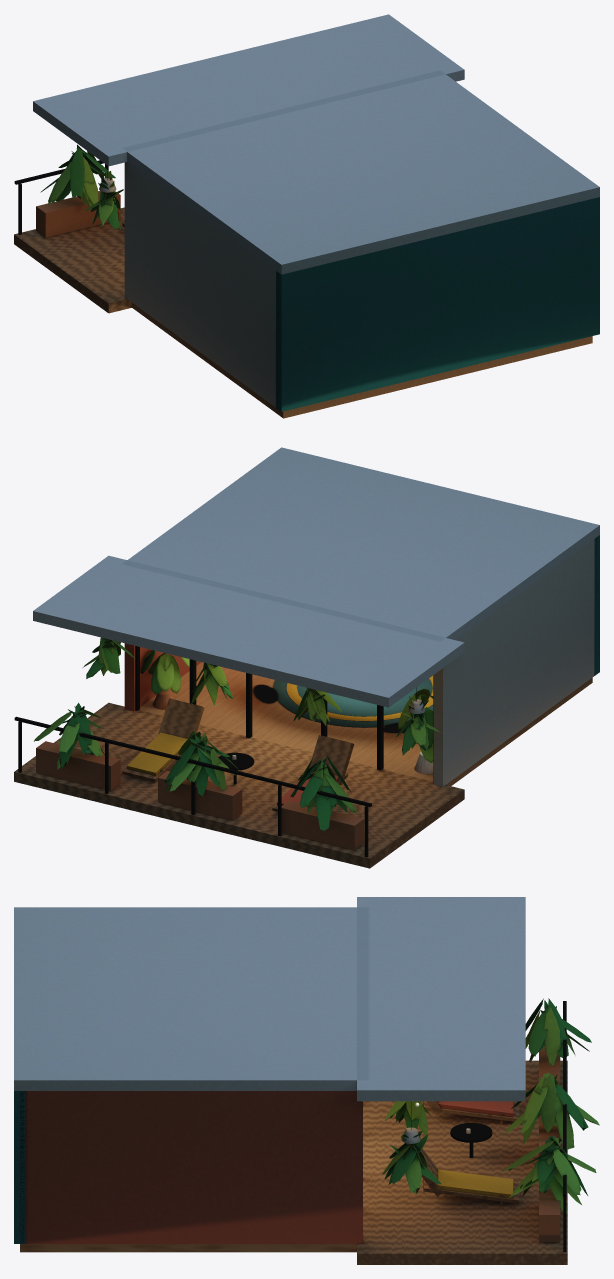
Rendered from sala.glb.
The picture shows the model from 3 angles, top to bottom: view 1: azimuth 30°, elevation 25°; view 2: azimuth 150°, elevation 25°; view 3: azimuth 270°, elevation 25°; orthographic projection. The views are drawn at different scales.
Visible parts, largest first — view 1: Sala; view 2: Sala; view 3: Sala.
Part boxes in pixels (left/top/right/bottom): Sala: left=14, top=14, right=599, bottom=418; Sala: left=14, top=447, right=599, bottom=868; Sala: left=14, top=897, right=599, bottom=1264.
Bounding box in the file's own units: 7.61 × 3.2 × 9.74.
1 material, 1 textured.
